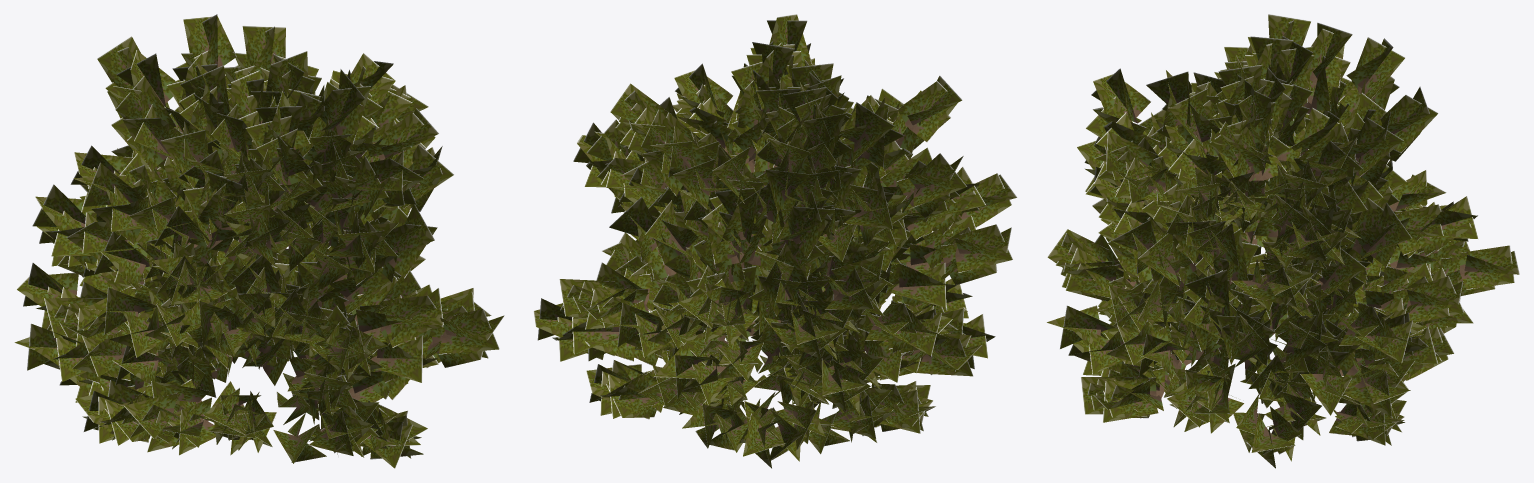
The model's file is tree_leaves.glb.
3 renders of one model, left to right at view 1: azimuth 30°, elevation 25°; view 2: azimuth 150°, elevation 25°; view 3: azimuth 270°, elevation 25°, orthographic. The views are drawn at different scales.
Parts seen in each view (by area): view 1: tree_leaves; view 2: tree_leaves; view 3: tree_leaves.
Part boxes in pixels (left/top/right/bottom): tree_leaves: left=14, top=14, right=504, bottom=468; tree_leaves: left=533, top=14, right=1017, bottom=468; tree_leaves: left=1046, top=14, right=1519, bottom=468.
Bounding box in the file's own units: 11.87 × 9.53 × 11.62.
Materials: 1 (1 with a texture image).
